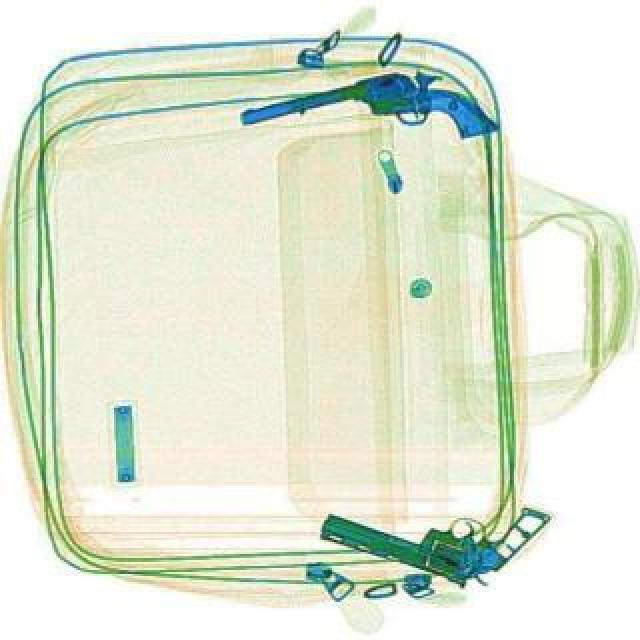gun: (236, 50, 498, 190), (314, 448, 550, 600)
